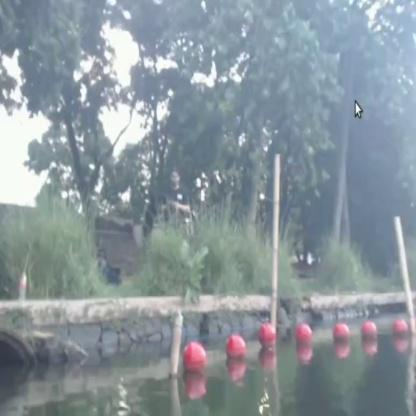red_buoy: (182, 340, 207, 372), (224, 336, 245, 364), (259, 322, 274, 348), (332, 322, 350, 342), (296, 324, 310, 348), (362, 321, 371, 339), (384, 316, 394, 332)
